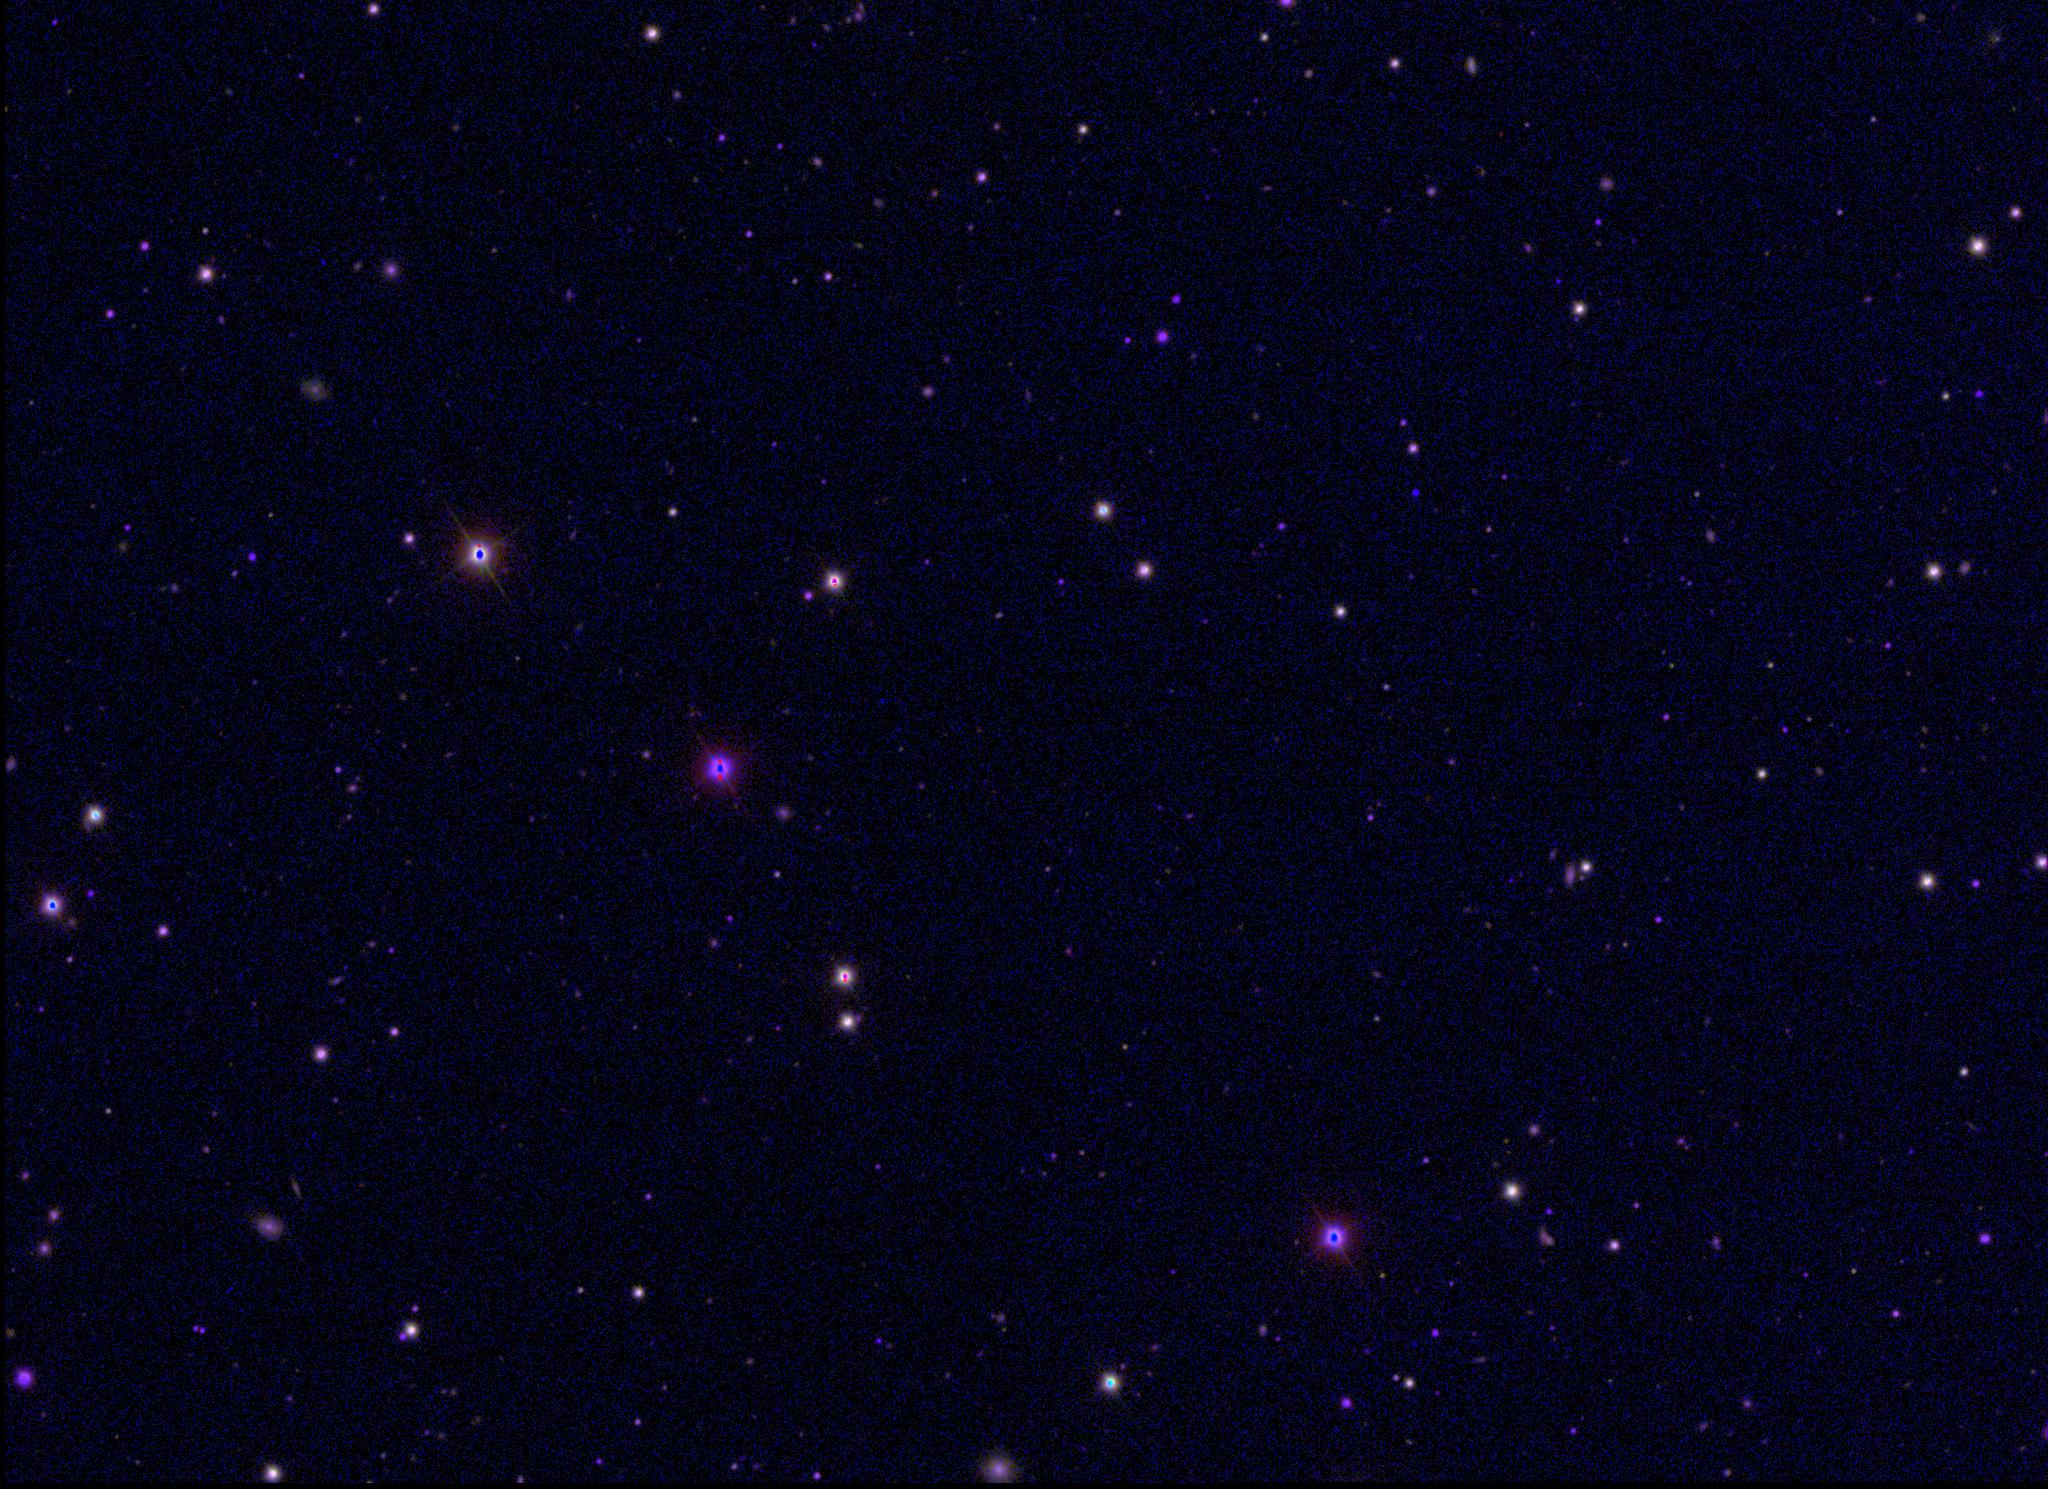L: (1409, 487, 1423, 500)
